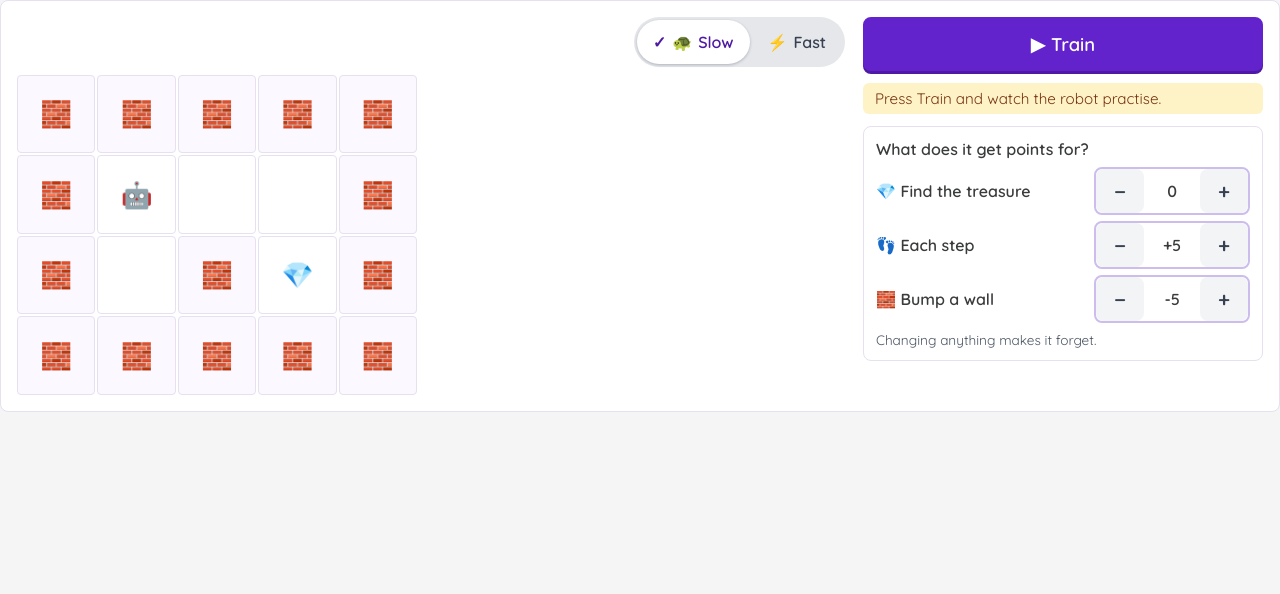
Game agent UI › shows daft behaviour and a hint with silly rewards
Click the button "▶Train" at (1063, 44), box [863,17,1263,71]
Wait 40000 ms
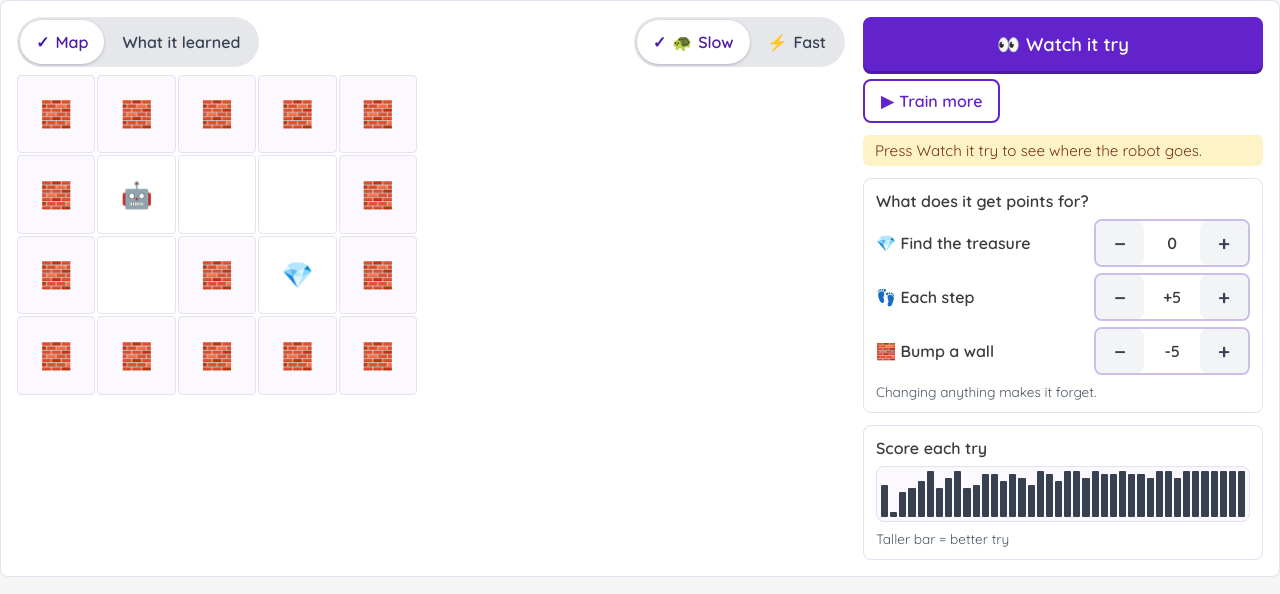
Click the button "👀Watch it try" at (1063, 44), box [863,17,1263,71]
Wait 10000 ms
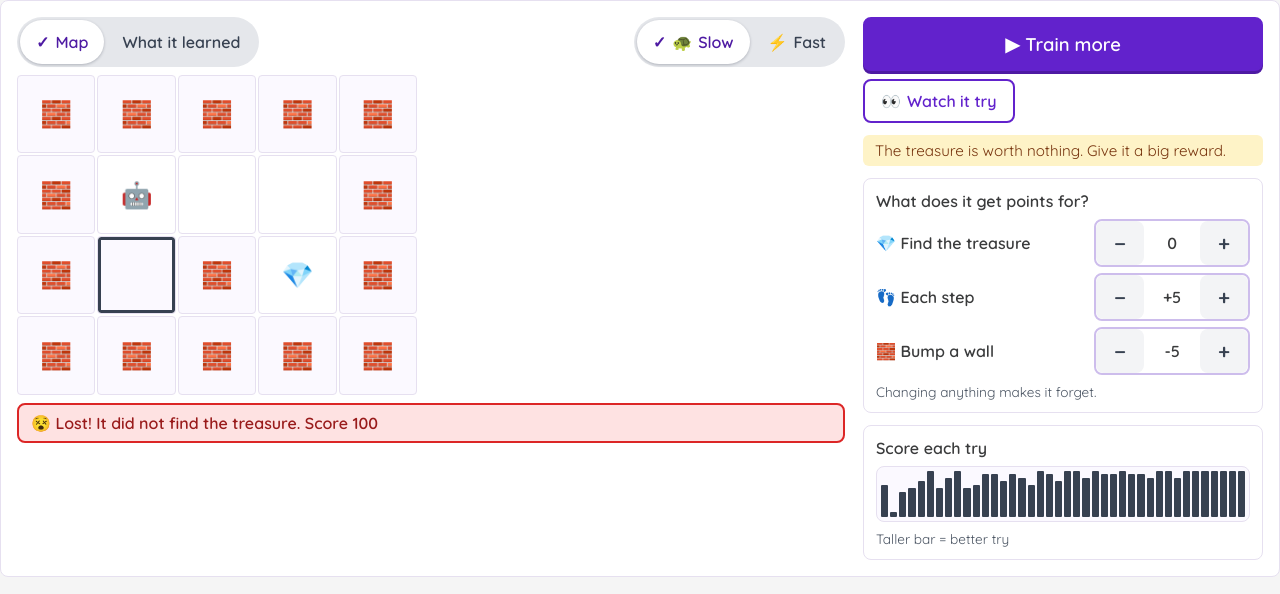
Expected: the element with test id "ga-result" shows "Lost!", [51,413,352,433]
Expected: the text "worth nothing" is shown, [875,141,1226,160]
